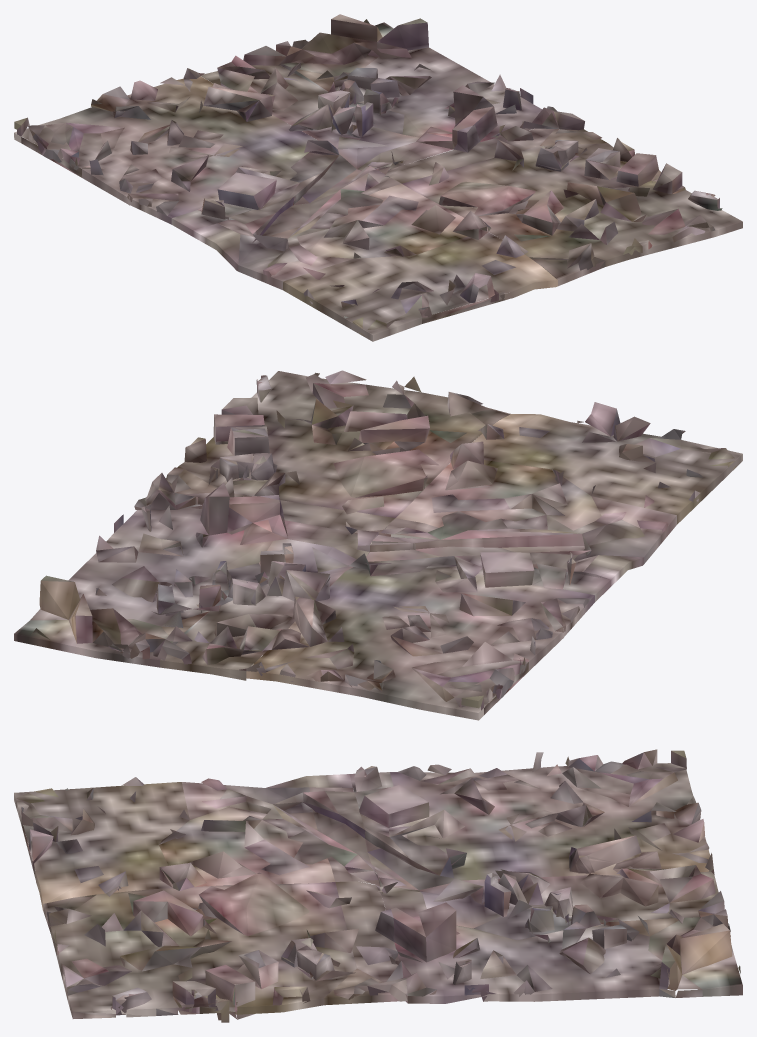
The picture shows the model from 3 angles, top to bottom: view 1: azimuth 30°, elevation 25°; view 2: azimuth 150°, elevation 25°; view 3: azimuth 270°, elevation 25°; orthographic projection. The views are drawn at different scales.
Parts seen in each view (by area): view 1: Mesh_0; view 2: Mesh_0; view 3: Mesh_0.
Boxes of the visible parts, left/top/right/bottom form: Mesh_0: left=14, top=14, right=742, bottom=341; Mesh_0: left=14, top=370, right=742, bottom=720; Mesh_0: left=14, top=749, right=742, bottom=1022.
Size of the model in its own units: 532 by 69.67 by 659.
1 material, 1 textured.
